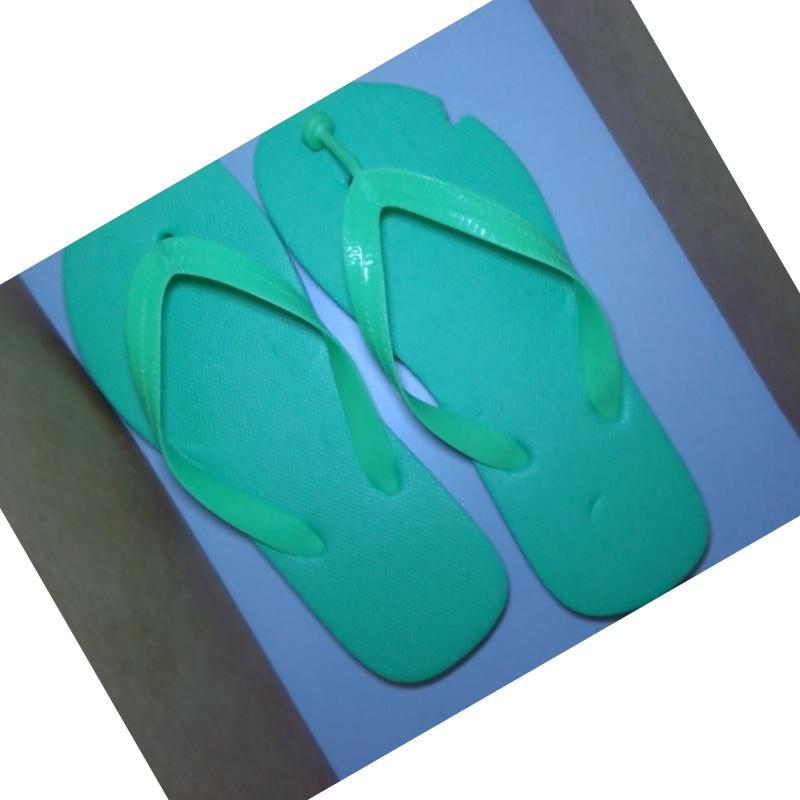chipped: (429, 87, 487, 139)
detached: (297, 108, 343, 165)
